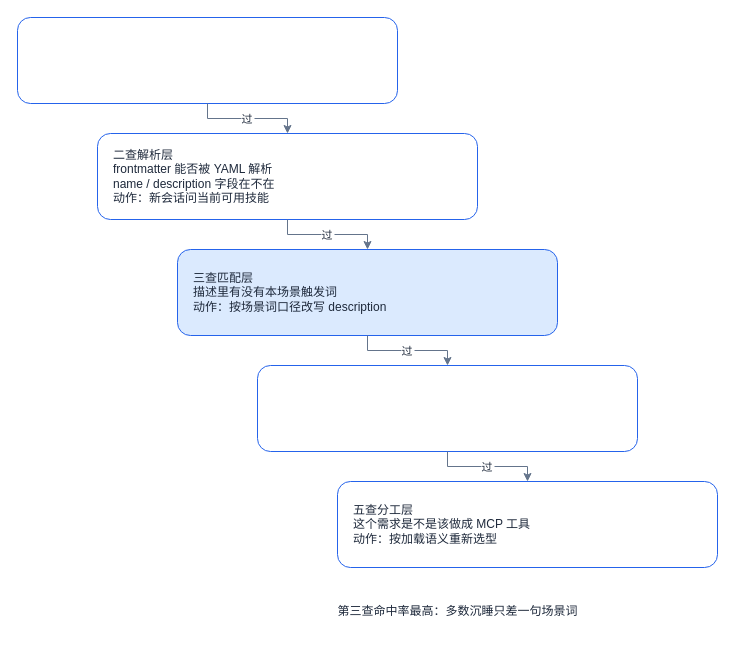
The diagram is 735 pixels wide and 645 high, and some of its shapes have lost their labels. Each missing label, with the box of its shape:
一查发现层 目录在不在扫描范围 SKILL.md 大小写对不对 动作：核对三级目录位置: (16, 16, 398, 104)
四查直通层 @名字显式触发一次 能用 = 匹配问题；不能用 = 更底层: (256, 364, 638, 452)
